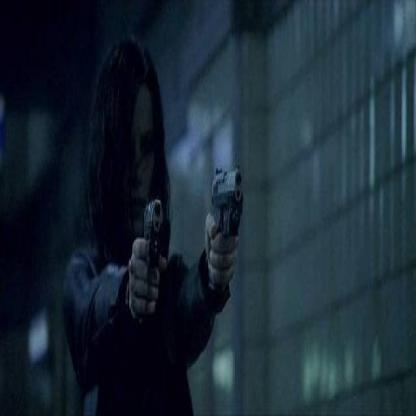Pistol: (205, 153, 247, 294), (141, 196, 164, 314)
